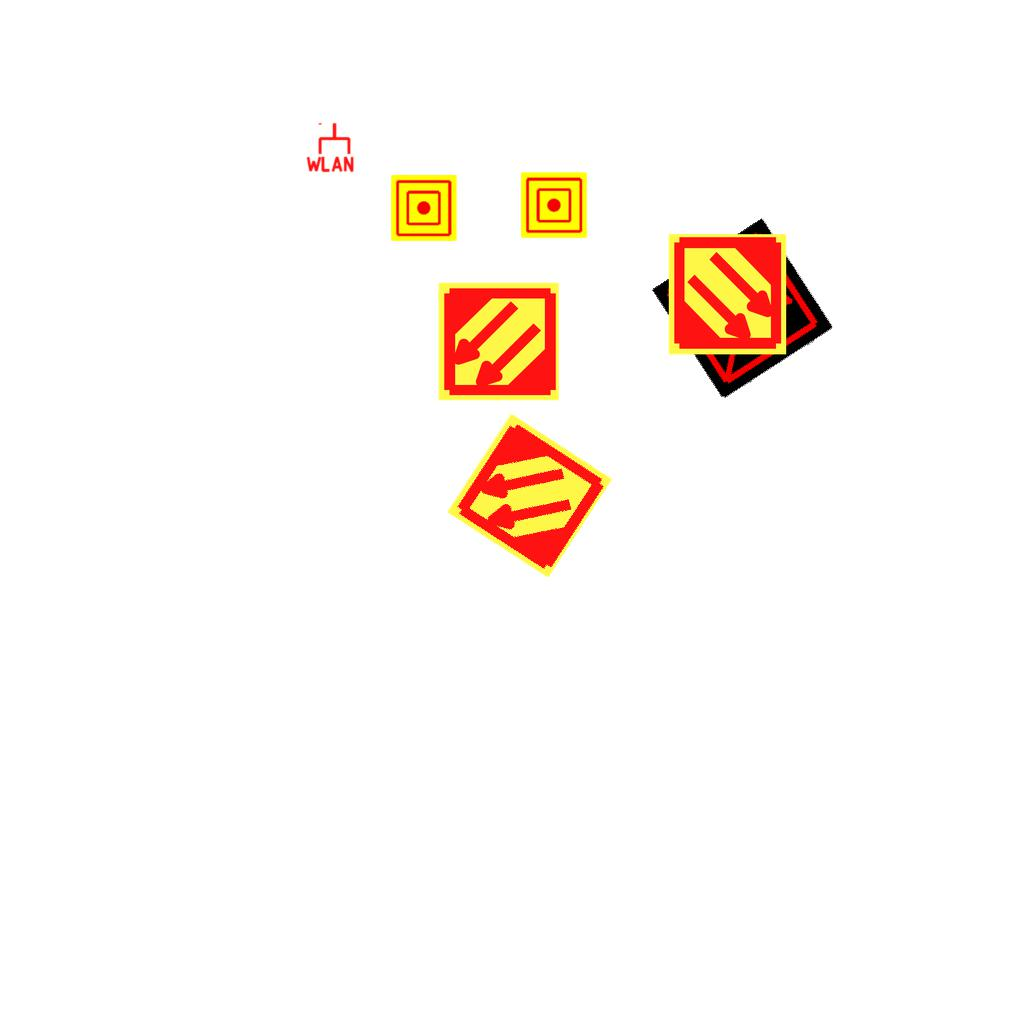ASR_Ansaugrauchmelder: (443, 409, 616, 582), (436, 279, 561, 404), (665, 232, 790, 357)
NAM-Nichtautomatischer_Melder: (521, 172, 587, 238), (391, 175, 457, 241)
OKW_Multisensormelder_(Kombination_optischer_Rauch-Kahlenmonoxid_Waerme-Melder): (651, 217, 835, 401)
WLAN: (304, 121, 356, 173)
